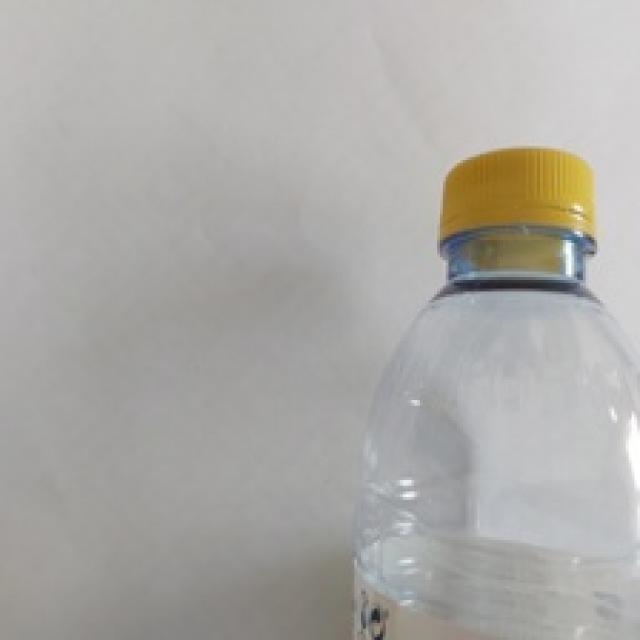Plastic: (359, 145, 640, 640)
